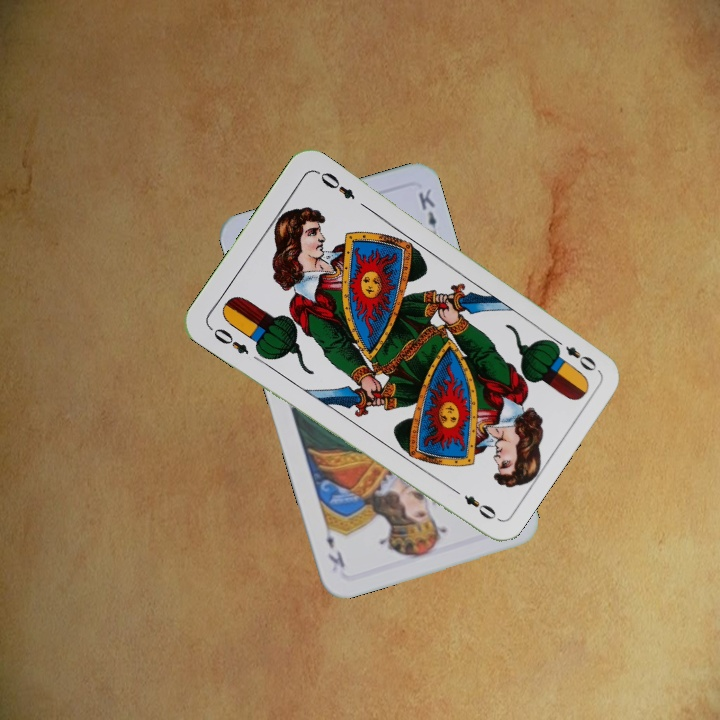EO: (548, 333, 600, 374), (205, 323, 252, 357)
